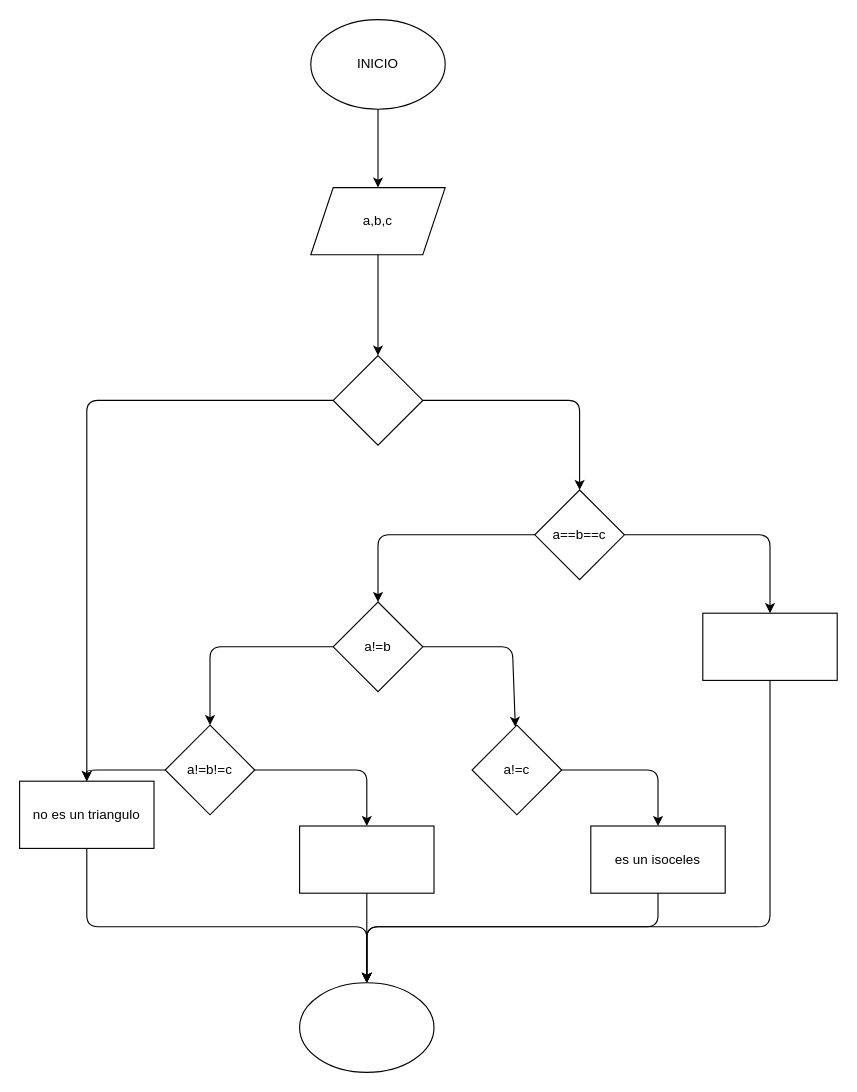
Image size: 857x1092. Some labels were removed from this diagram. Each missing label, with the centre of its shape:
"a+b+c=180" goes at point (377, 399).
"es un equilatero" goes at point (769, 646).
"es un escaleno" goes at point (366, 859).
"FIN" goes at point (366, 1027).
